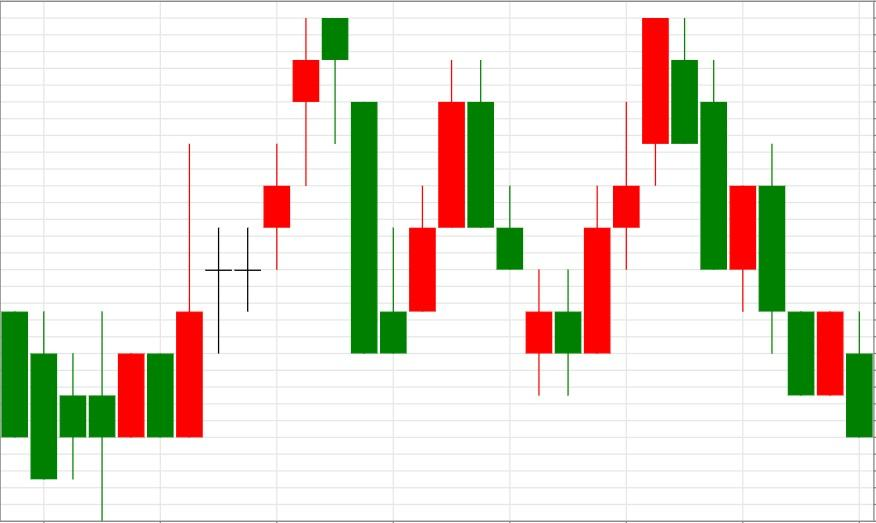hanging_man_fall: (30, 18, 349, 522)
three_white_soldiers_rise: (437, 17, 670, 395)
